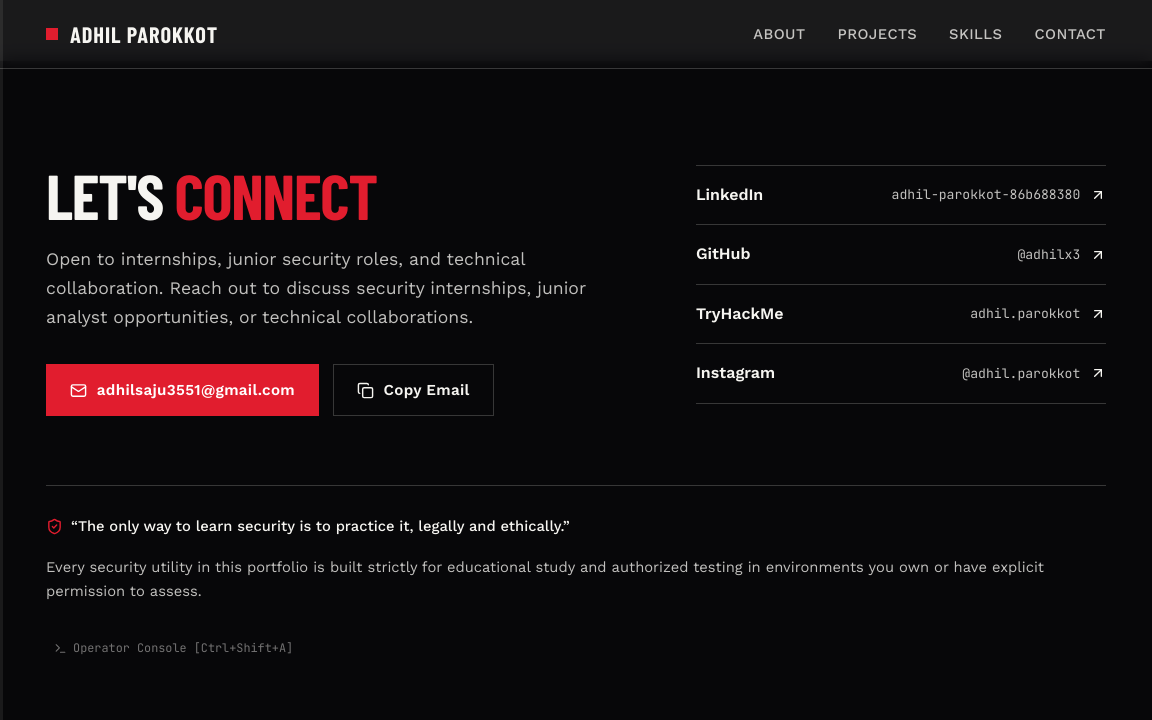
it: Adhil Parokkot Portfolio App › copies email to clipboard and falls back gracefully if clipboard API rejects
Later steps or results of the test are not shown.
(page scrolled)
Click the button "Copy Email" at (413,390), box [333, 364, 494, 416]
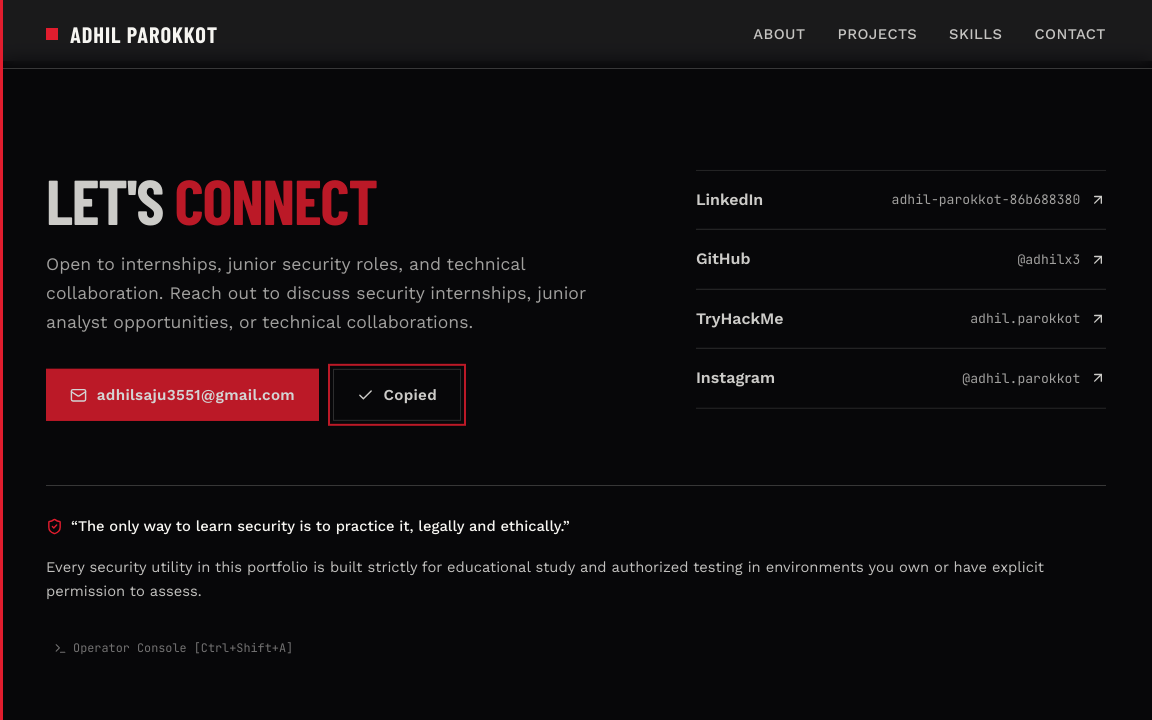
Result: the text "Copied" is shown at [384, 382, 437, 408]
